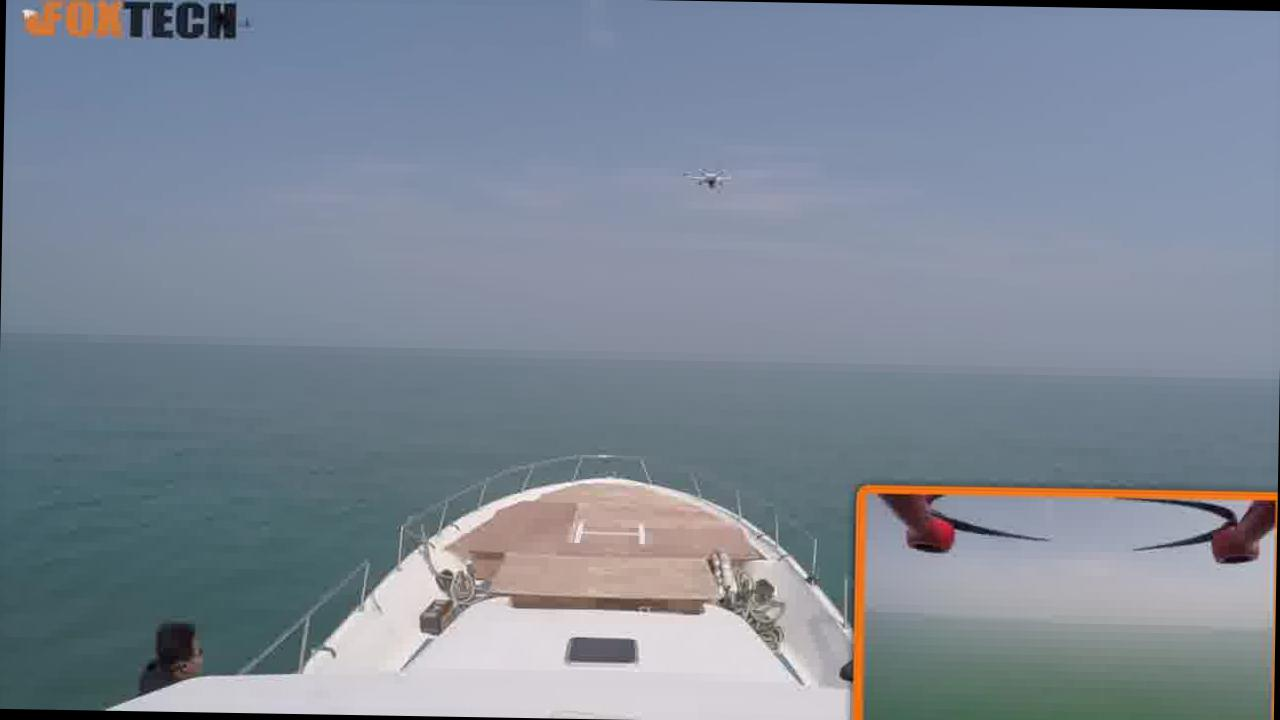drone: (674, 153, 740, 204)
